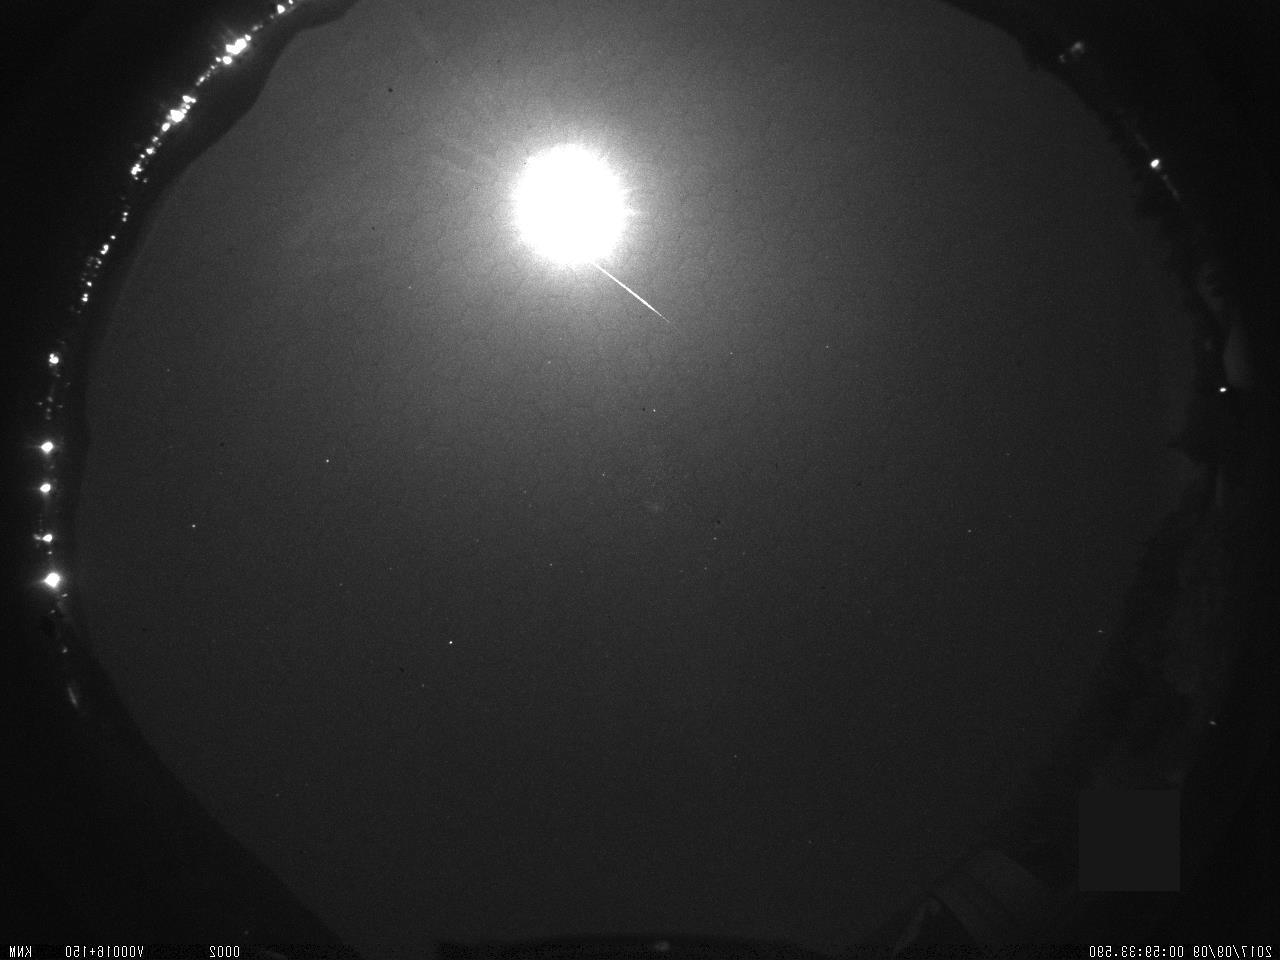meteor: (544, 239, 695, 340)
